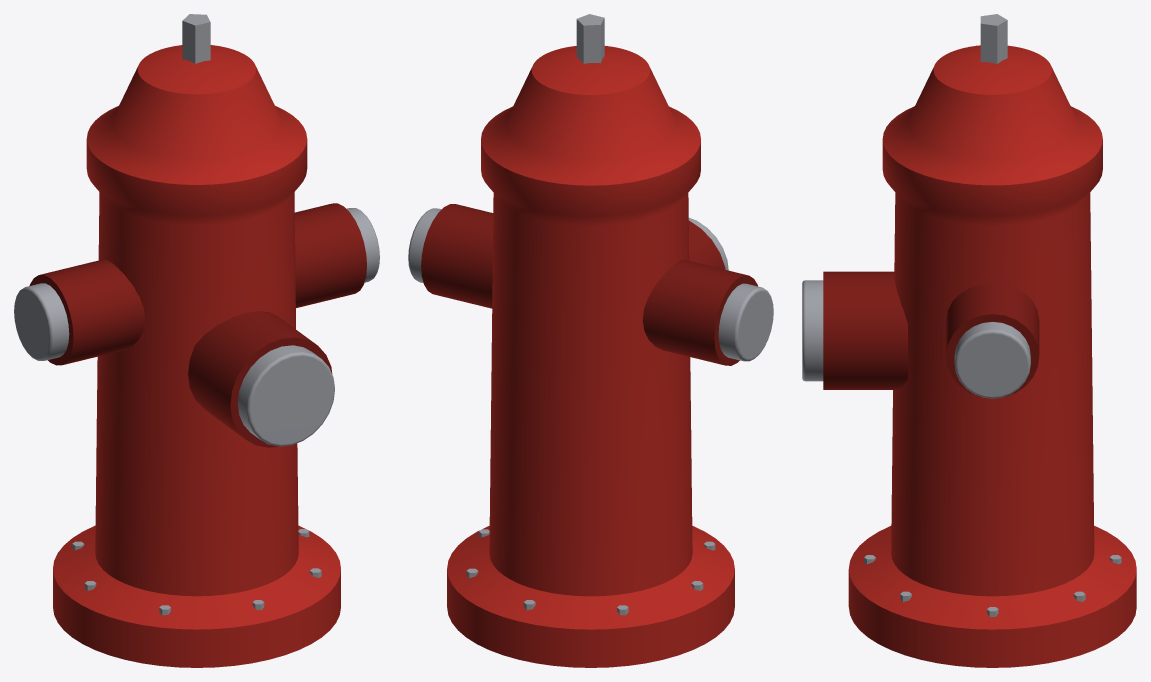
File: gen_fire_hydrant.godot.glb
3 renders of one model, left to right at view 1: azimuth 30°, elevation 25°; view 2: azimuth 150°, elevation 25°; view 3: azimuth 270°, elevation 25°, orthographic.
Parts seen in each view (by area): view 1: gen_fire_hydrant; view 2: gen_fire_hydrant; view 3: gen_fire_hydrant.
Boxes of the visible parts, x1,y1,x2,y2 form: gen_fire_hydrant: (14, 14, 379, 667); gen_fire_hydrant: (408, 14, 773, 667); gen_fire_hydrant: (802, 14, 1136, 667).
Size of what is drawn, in the model's own units: 0.45 by 0.765 by 0.395.
Materials: 1 (1 with a texture image).
